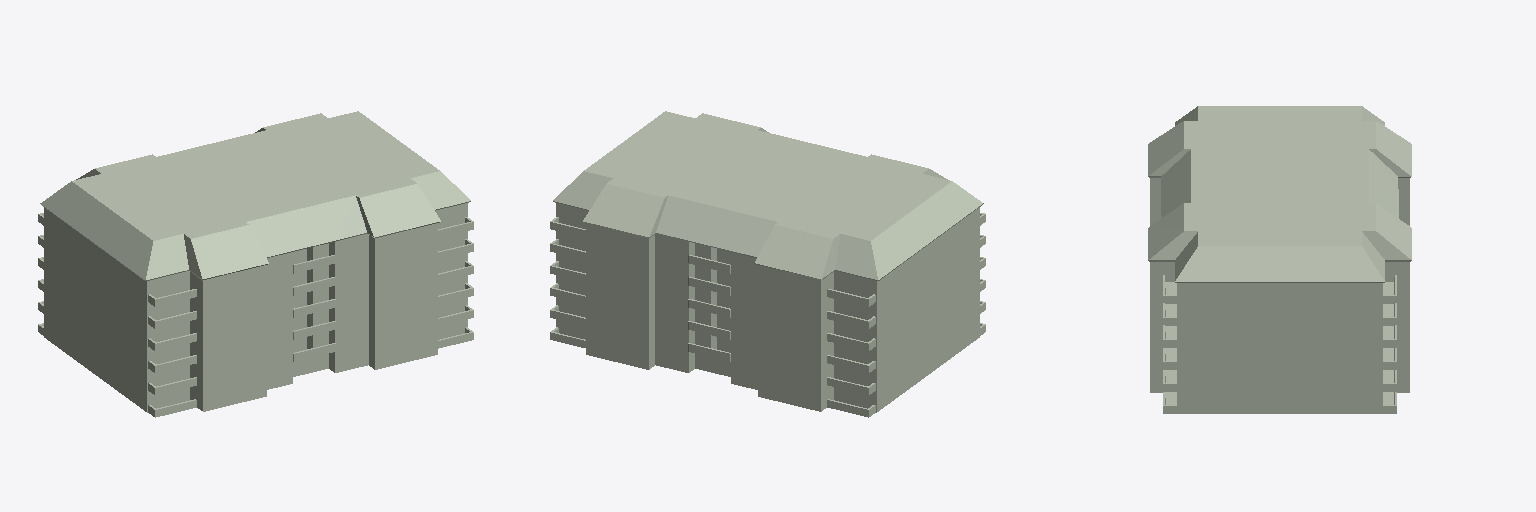
File: lojman.obj
3 renders of one model, left to right at view 1: azimuth 30°, elevation 25°; view 2: azimuth 150°, elevation 25°; view 3: azimuth 270°, elevation 25°, orthographic.
Parts seen in each view (by area): view 1: apartment-building; view 2: apartment-building; view 3: apartment-building.
Part boxes in pixels (bbox=[...]): apartment-building: bbox=[38, 111, 473, 417]; apartment-building: bbox=[550, 111, 985, 417]; apartment-building: bbox=[1148, 106, 1411, 413].
Bounding box in the file's own units: 4643 × 2176 × 3257.